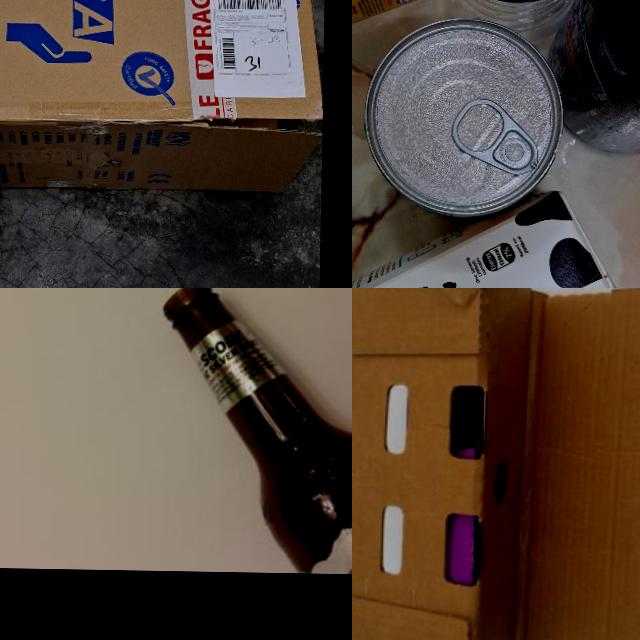aba de lata: (452, 92, 540, 179)
caixinha: (352, 185, 640, 288)
garrafa de vidro: (156, 288, 352, 576), (551, 0, 640, 162)
lata: (362, 23, 564, 219)
papelão: (352, 288, 640, 640), (0, 0, 327, 288)
